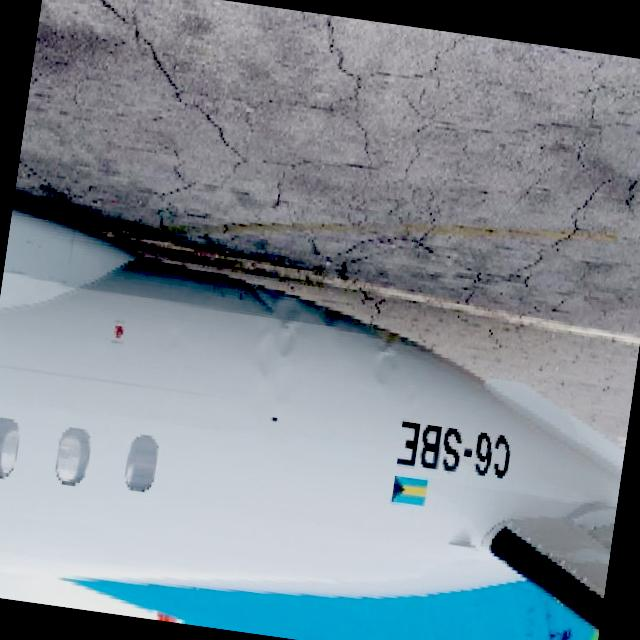dent: (239, 281, 313, 380), (366, 320, 410, 396)
